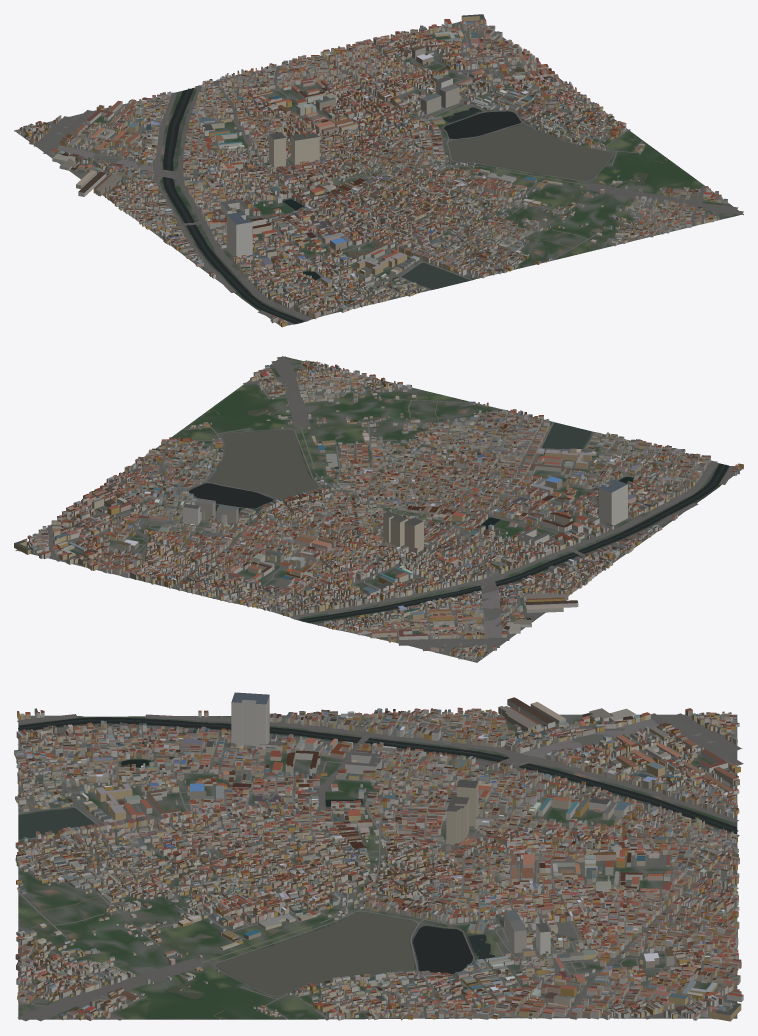
3 renders of one model, top to bottom at view 1: azimuth 30°, elevation 25°; view 2: azimuth 150°, elevation 25°; view 3: azimuth 270°, elevation 25°, orthographic. The views are drawn at different scales.
Visible parts, largest first — view 1: buildings, ground, water, roads; view 2: buildings, ground, roads, water; view 3: buildings, ground, water, roads.
Part boxes in pixels (x1,y1,x2,y2): buildings: (18,14,727,327); ground: (14,20,743,326); water: (162,88,647,323); roads: (16,22,743,325); buildings: (14,360,743,661); ground: (15,356,743,662); roads: (27,356,734,661); water: (185,407,728,622); buildings: (14,692,743,1021); ground: (18,714,737,1019); water: (18,717,738,999); roads: (17,713,743,1021).
Bounding box in the file's own units: 1470 × 106 × 1423.
